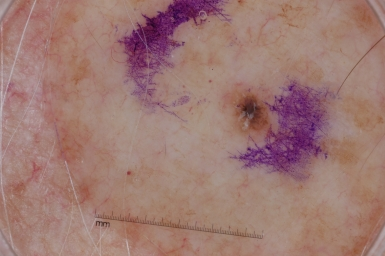seborrheic keratosis: (201, 78, 275, 138)
